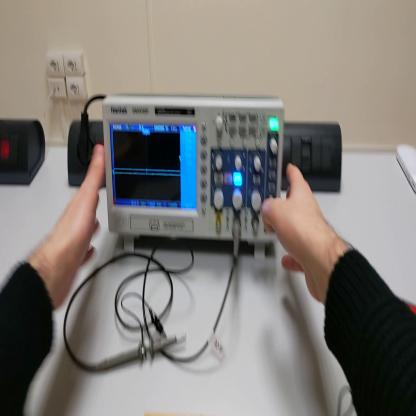hand: (35, 141, 106, 314), (262, 157, 330, 297)
oscilloscope: (104, 99, 287, 269)
oscilloscope probe tip: (97, 333, 188, 377)
socket: (1, 118, 47, 188), (66, 120, 107, 188)
